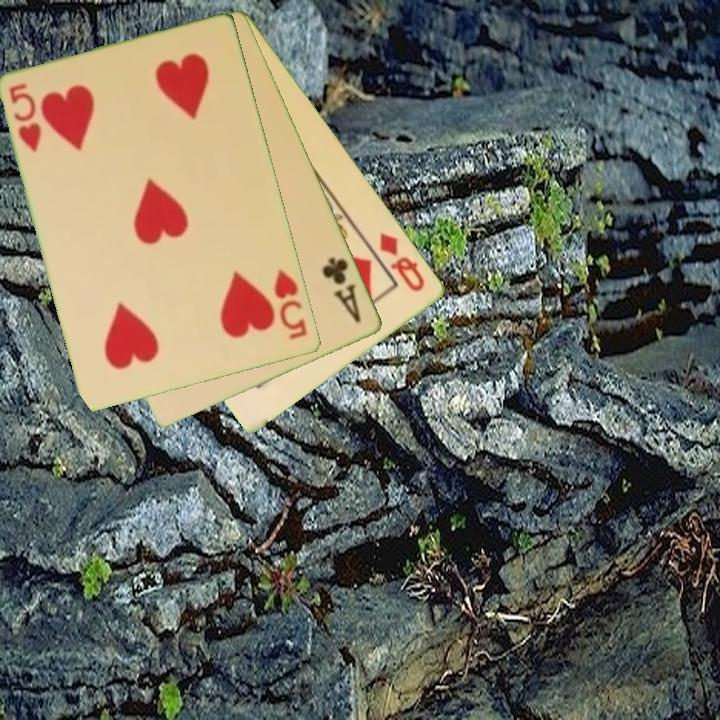5h: (271, 266, 311, 343), (6, 80, 45, 155)
Ac: (319, 253, 365, 326)
Qd: (376, 229, 429, 295)
